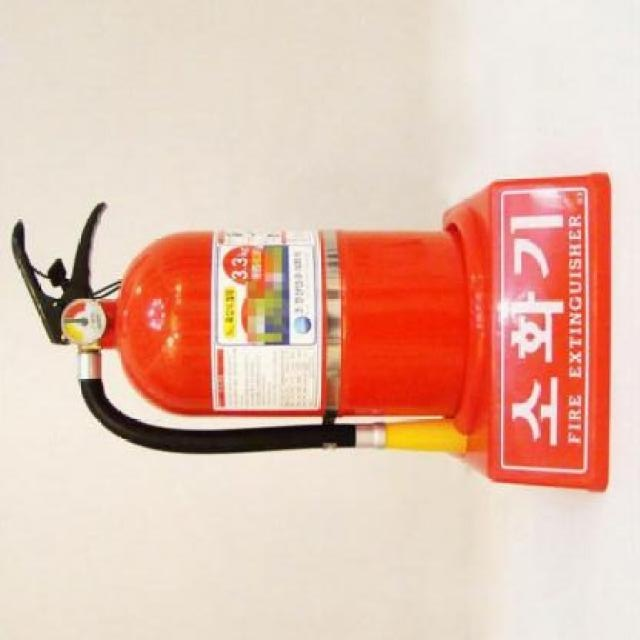fire extinguisher: (10, 202, 468, 455)
